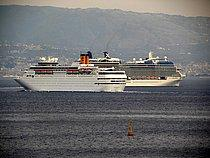Ship: (12, 48, 130, 95)
